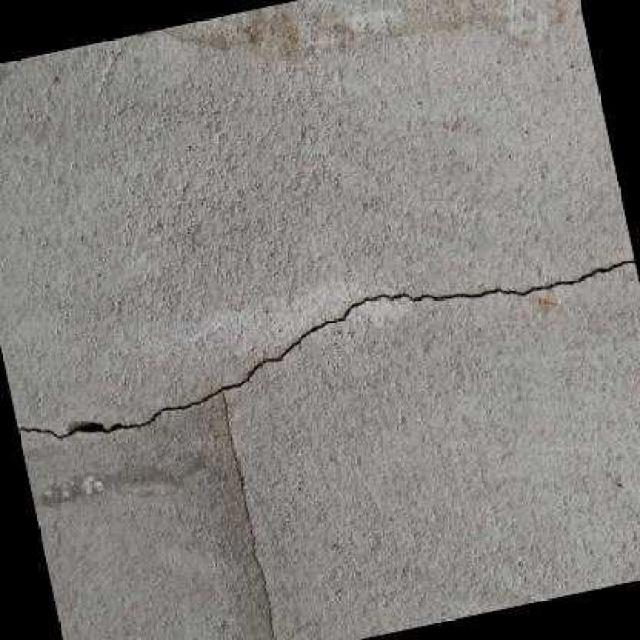D00: (15, 256, 635, 640)
